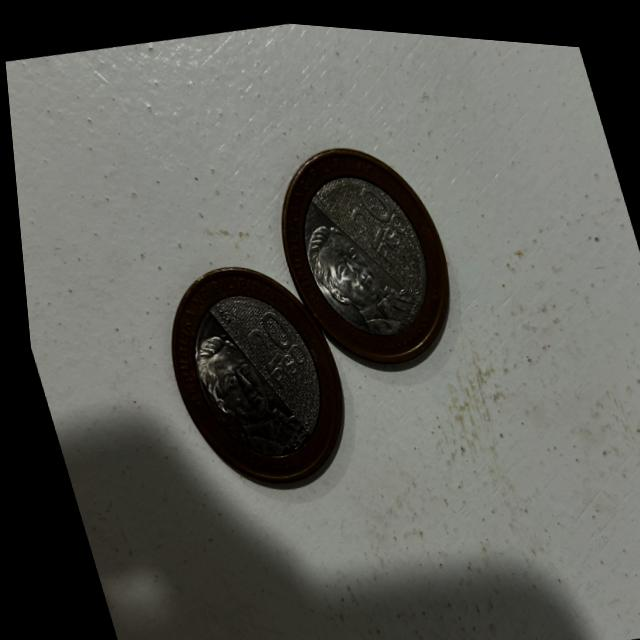20_New_Front: (336, 169, 413, 263), (232, 297, 305, 393)
